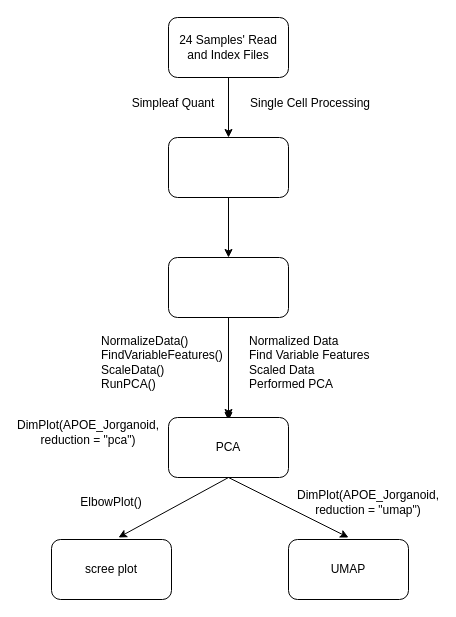
Some shapes in this 456 by 617 pixel diagram are drawn without their labels. Here are the shapes that lost their labels. From the top down, the centre of each, then its label:
the point at 228,167: 24 Seurat Objects
the point at 228,287: Combined Seurat Object
